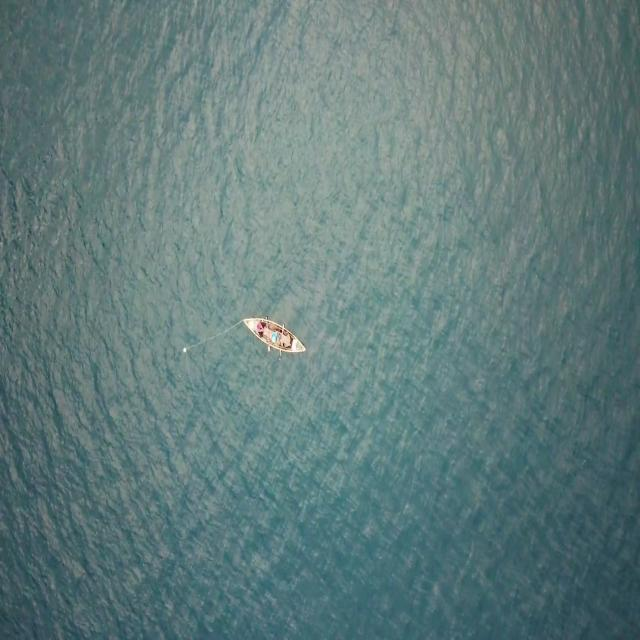ship: (241, 309, 308, 362)
